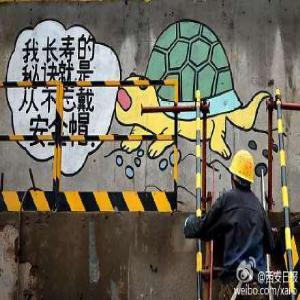yellow: (230, 151, 257, 195)
